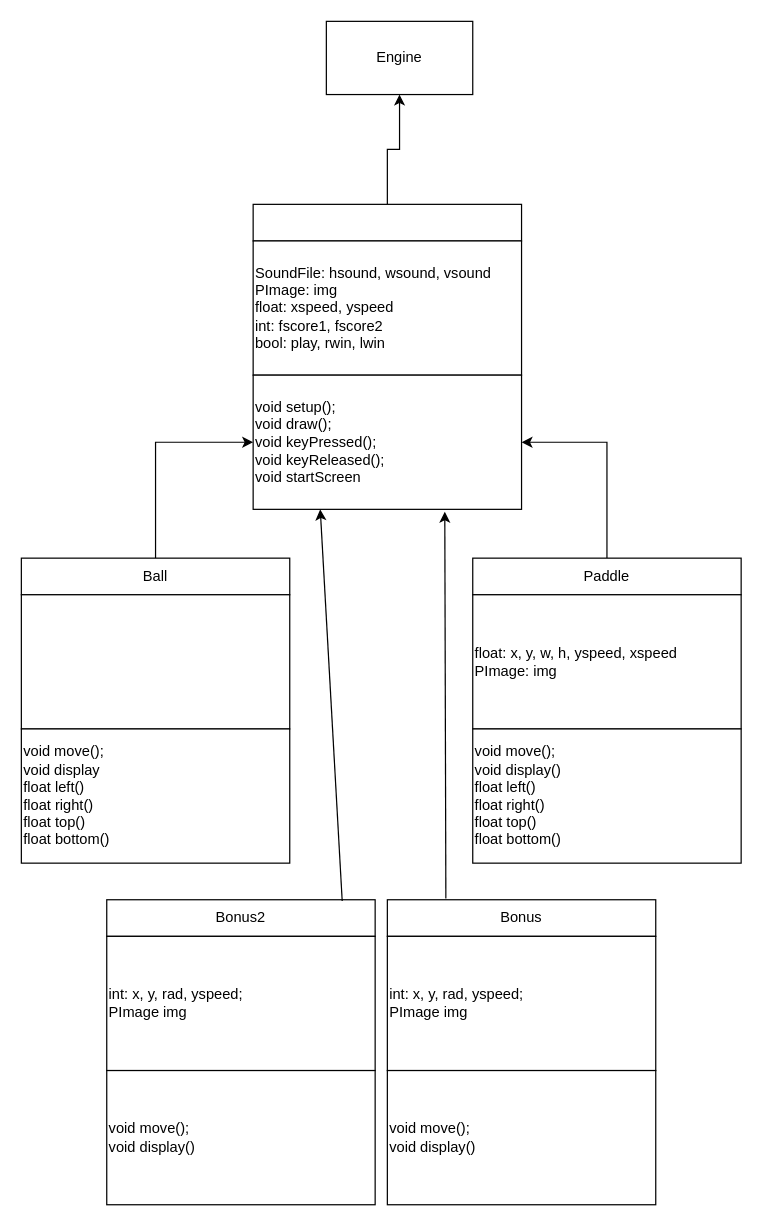
Image size: 763x1226. Some labels were removed from this diagram. Each missing label, with the box of its shape:
float: x, y, xspeed, yspeed, rad, wdth, ht; int: score1, score 2, sc; PImage img: (20, 594, 290, 729)
PINGPONG: (252, 203, 522, 241)
